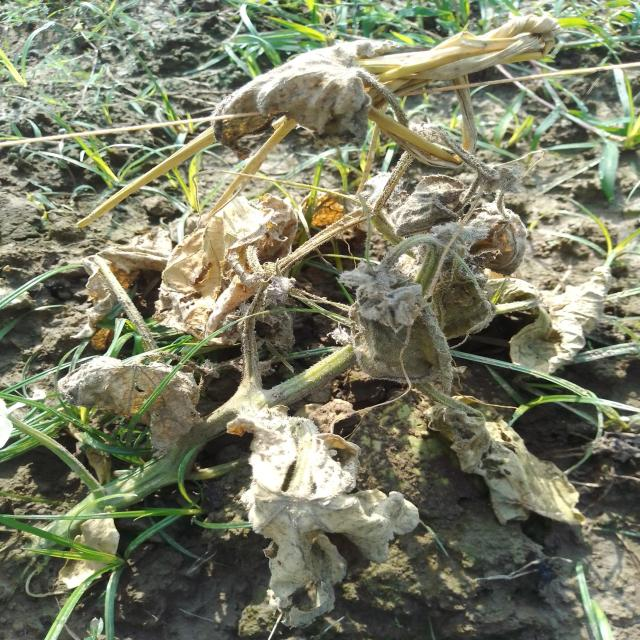cucumber_bacterial: (215, 371, 388, 596), (40, 317, 214, 505), (427, 390, 606, 548), (209, 42, 391, 183), (342, 235, 502, 388), (138, 201, 283, 347)
